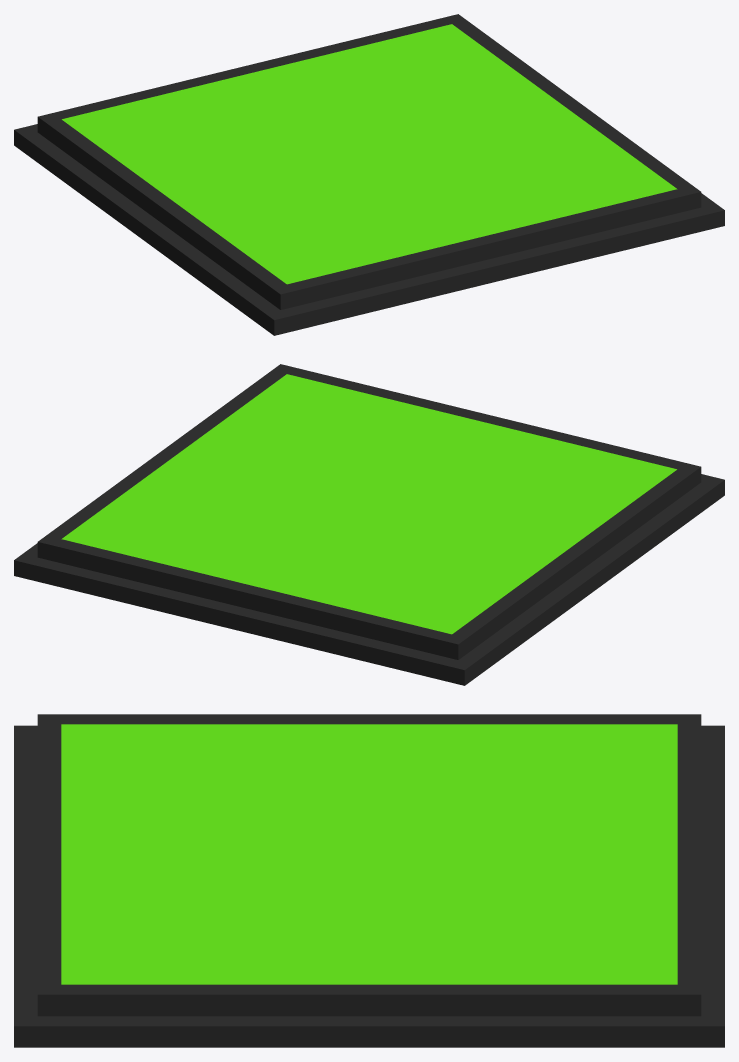
File: plate_green.obj
3 views of the same model, one above another, from view 1: azimuth 30°, elevation 25°; view 2: azimuth 150°, elevation 25°; view 3: azimuth 270°, elevation 25° (orthographic). The views are drawn at different scales.
Bounding box in the file's own units: 3 × 0.2 × 3.
1 material, 1 textured.
